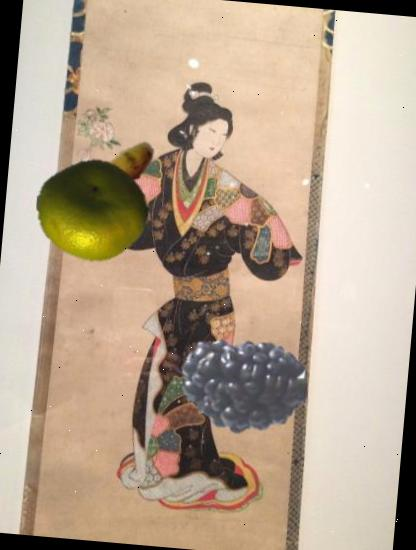Banana: (49, 120, 168, 239)
Mulberry: (174, 317, 313, 456)
Pomelo: (31, 150, 152, 271)
